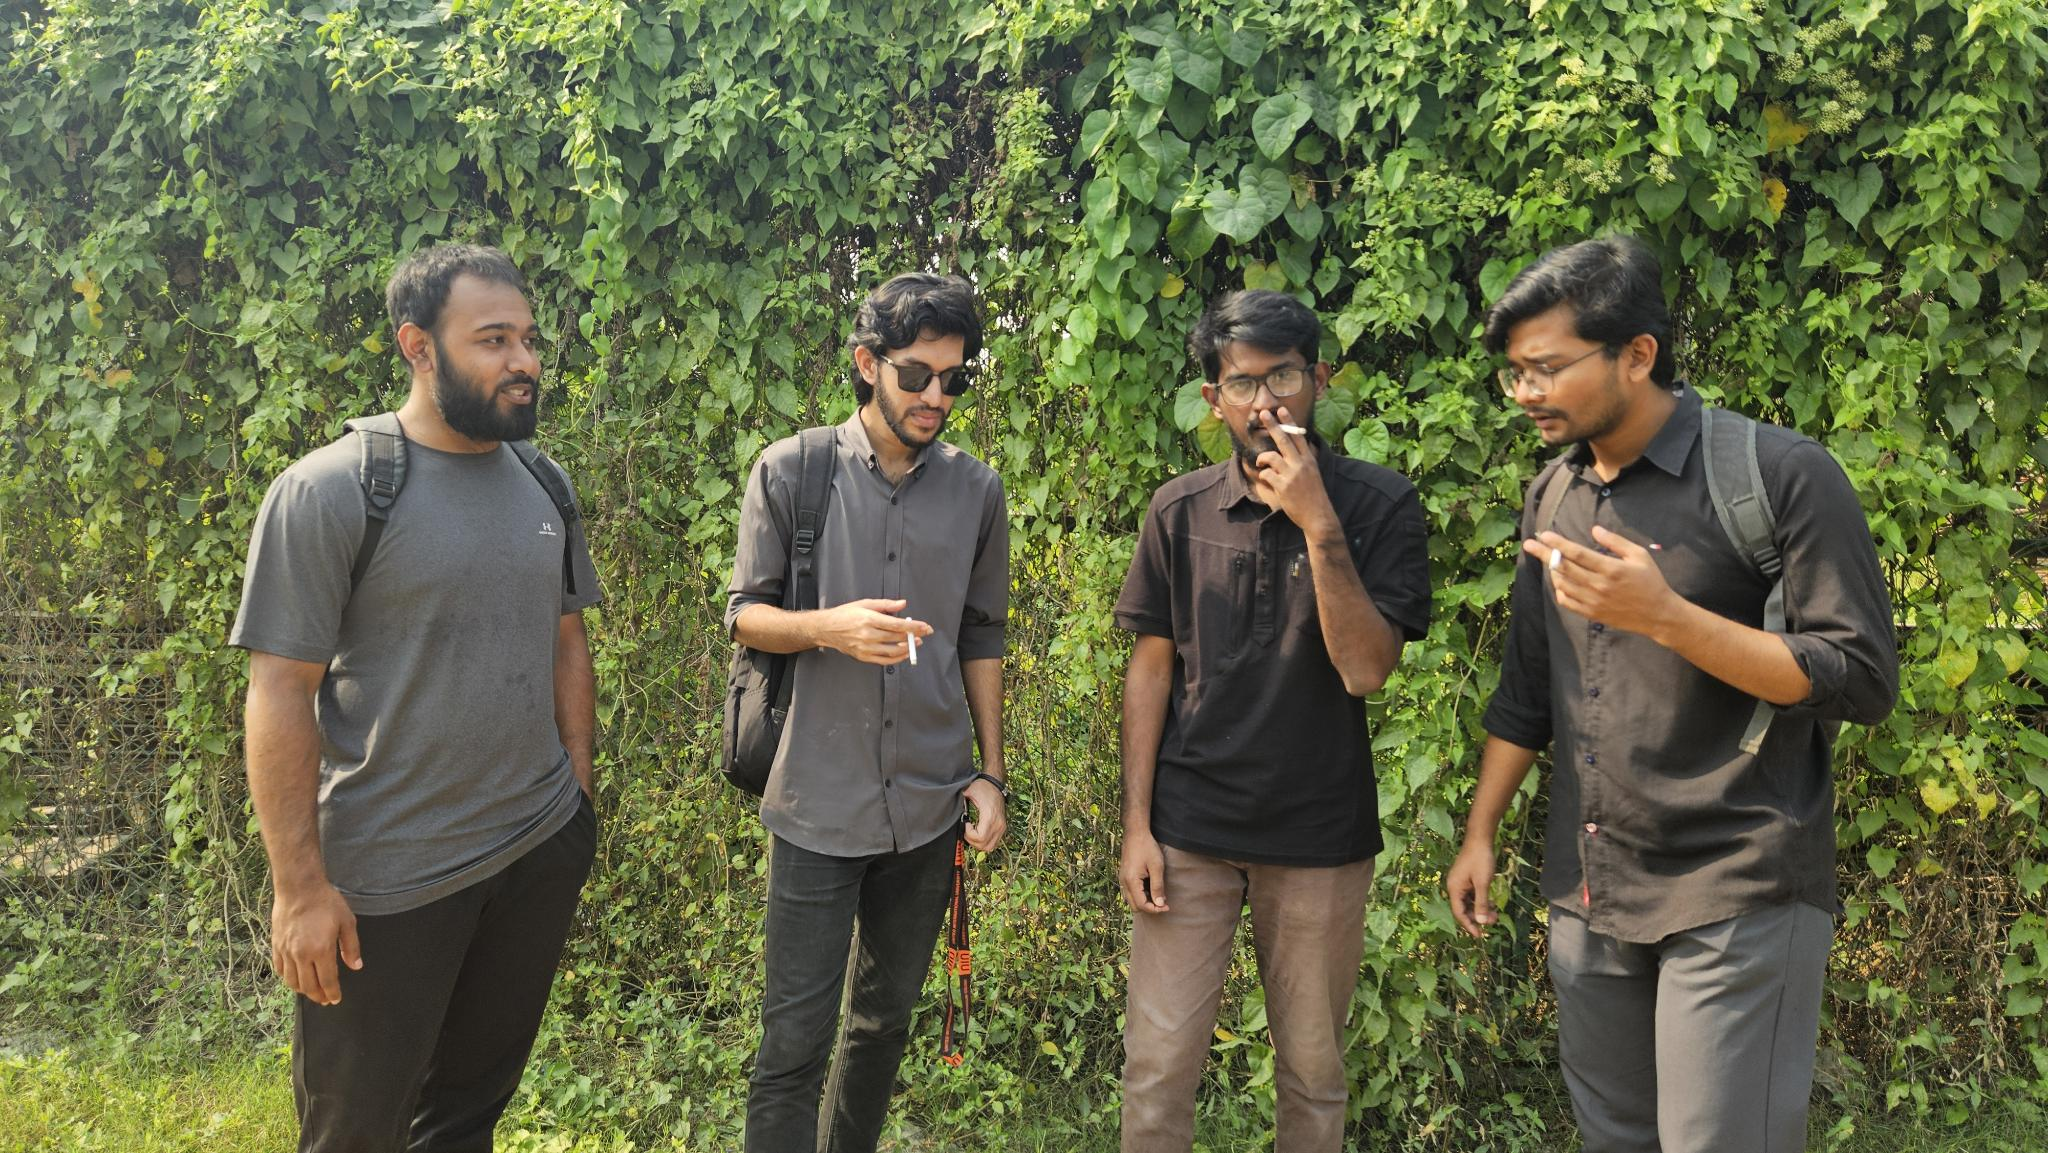cigarette: (906, 630, 919, 666), (1279, 422, 1308, 436), (1547, 547, 1563, 572)
nonSmoker: (226, 243, 608, 1153)
smoker: (1447, 235, 1900, 1153), (1113, 290, 1432, 1153), (720, 271, 1010, 1153)
